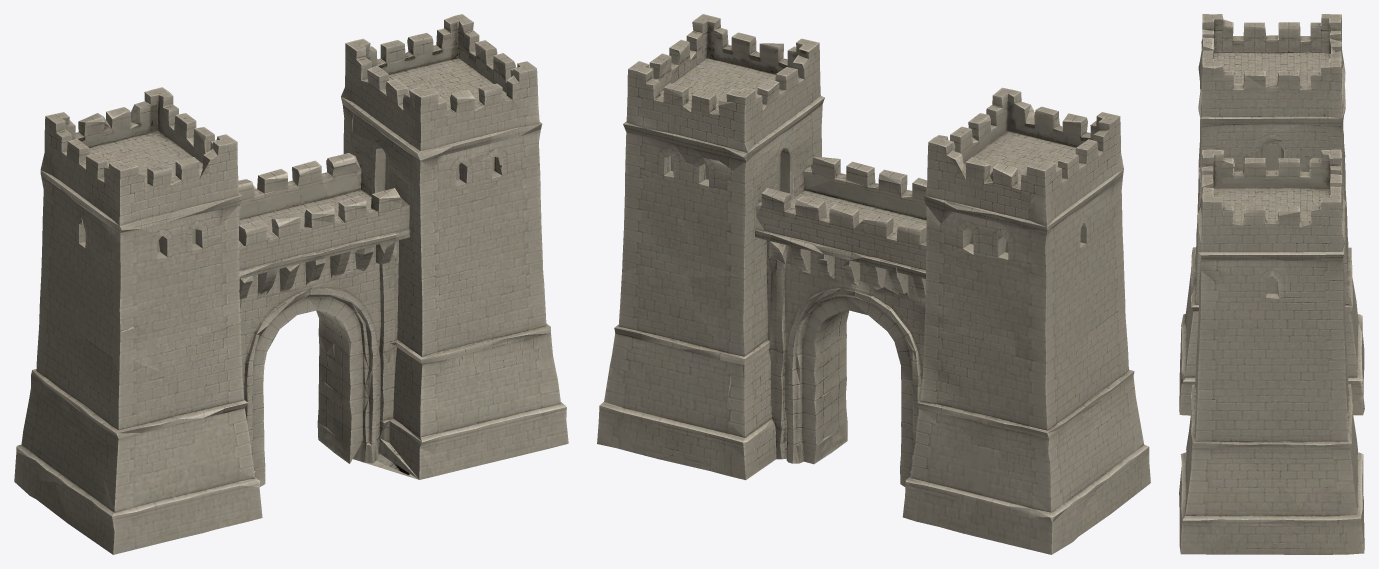
The model's file is main_gate.glb.
3 views of the same model, side by side, from view 1: azimuth 30°, elevation 25°; view 2: azimuth 150°, elevation 25°; view 3: azimuth 270°, elevation 25° (orthographic). The views are drawn at different scales.
Parts seen in each view (by area): view 1: output_unwrapped; view 2: output_unwrapped; view 3: output_unwrapped.
Boxes of the visible parts, box(x1,y1,x2,y2) form: output_unwrapped: box(14, 14, 568, 554); output_unwrapped: box(597, 14, 1150, 554); output_unwrapped: box(1179, 14, 1364, 554).
Size of the model in its own units: 1.9 by 1.47 by 0.7184.
1 material, 1 textured.
